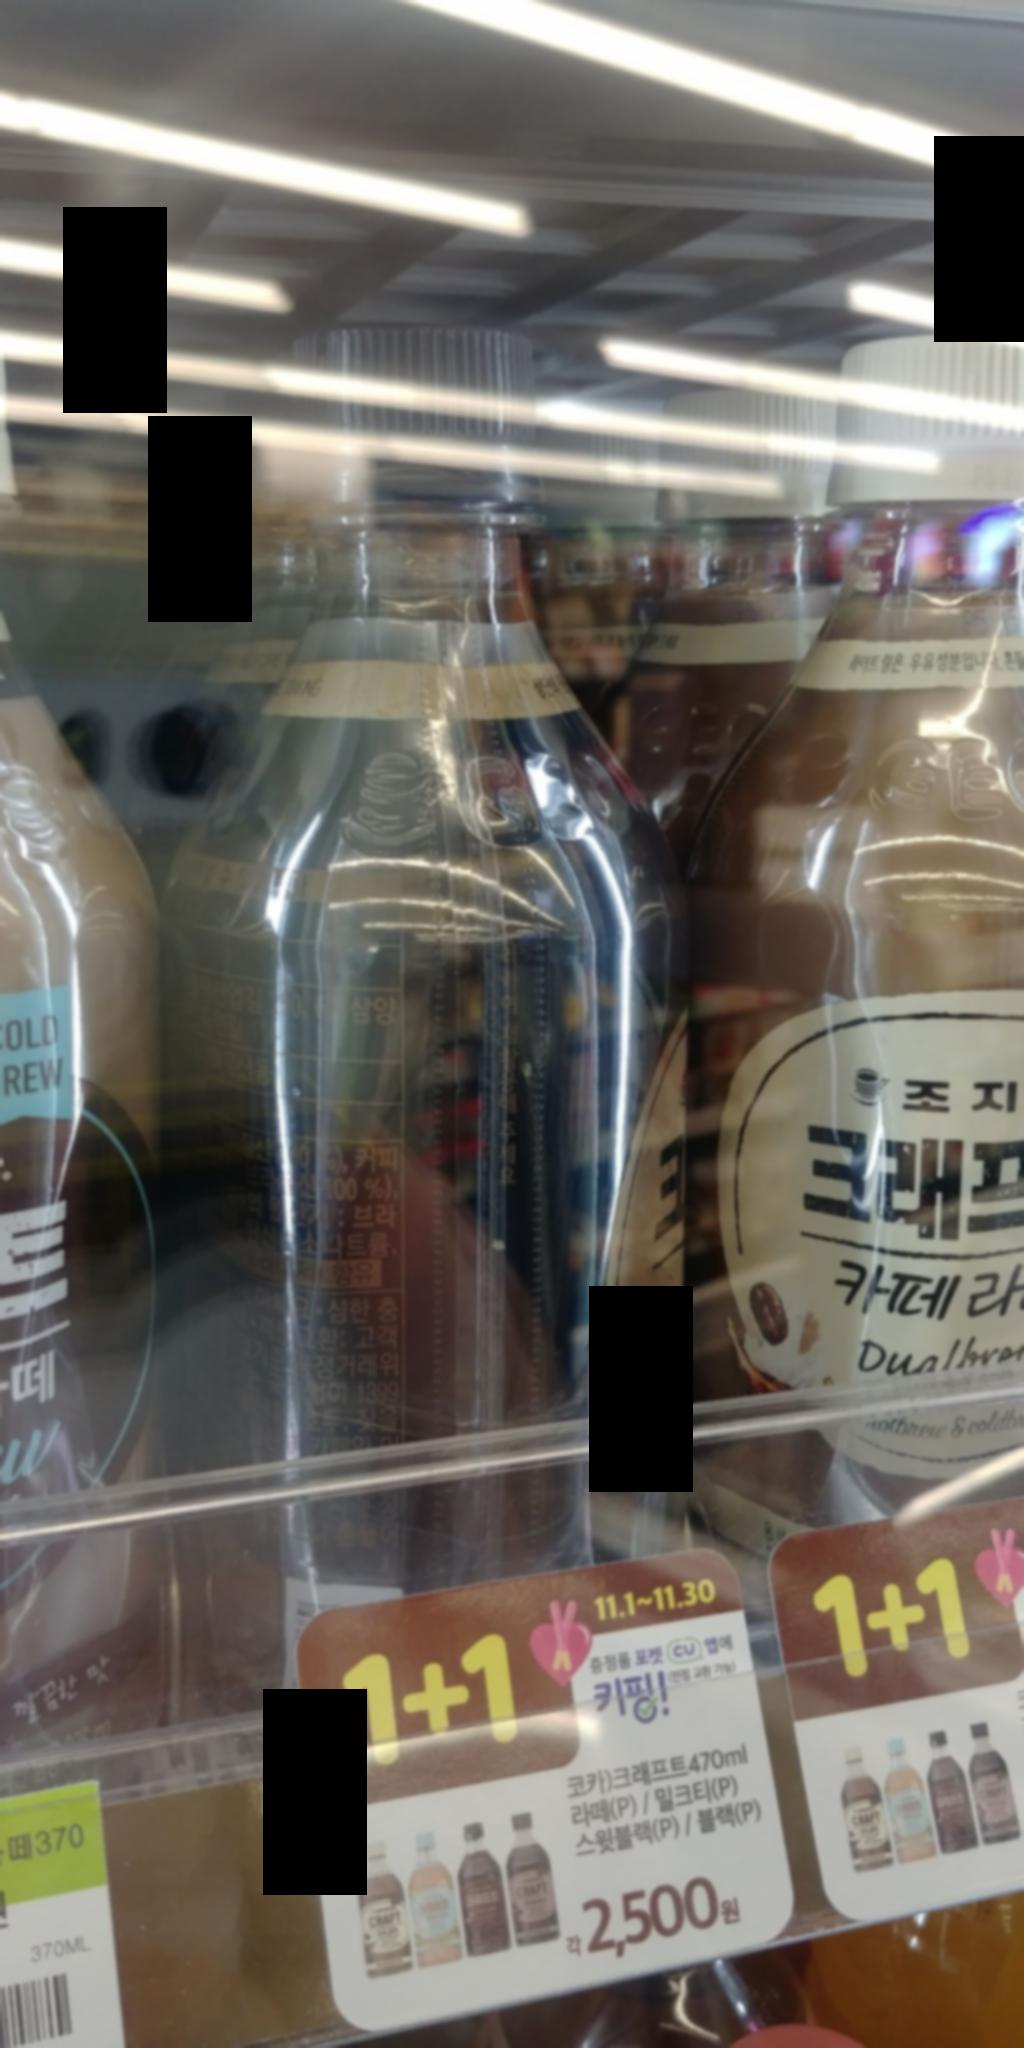georgiacraft_black: (165, 286, 667, 1660)
